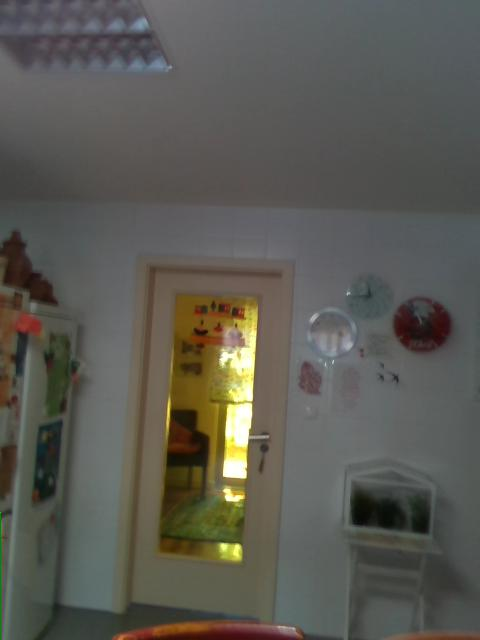door: (116, 253, 292, 622)
